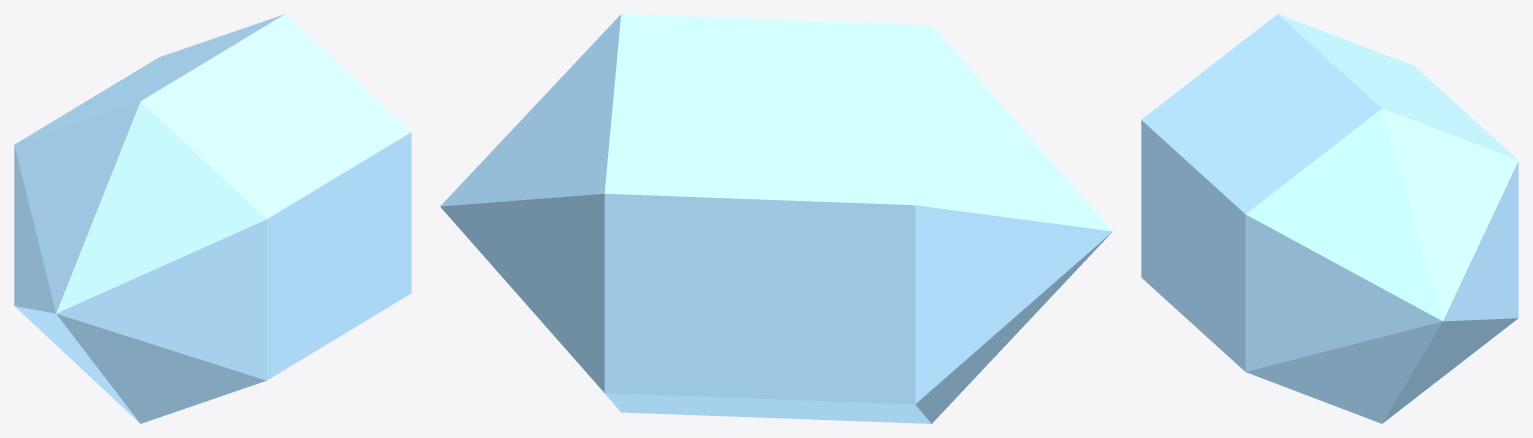
File: gem_rime.glb
3 views of the same model, side by side, from view 1: azimuth 30°, elevation 25°; view 2: azimuth 150°, elevation 25°; view 3: azimuth 270°, elevation 25° (orthographic). The views are drawn at different scales.
Visible parts, largest first — view 1: model; view 2: model; view 3: model.
Boxes of the visible parts, <box> form: model: <box>14,14,411,423</box>; model: <box>440,14,1112,423</box>; model: <box>1141,14,1518,423</box>.
Bounding box in the file's own units: 0.1532 × 0.11 × 0.1193.
